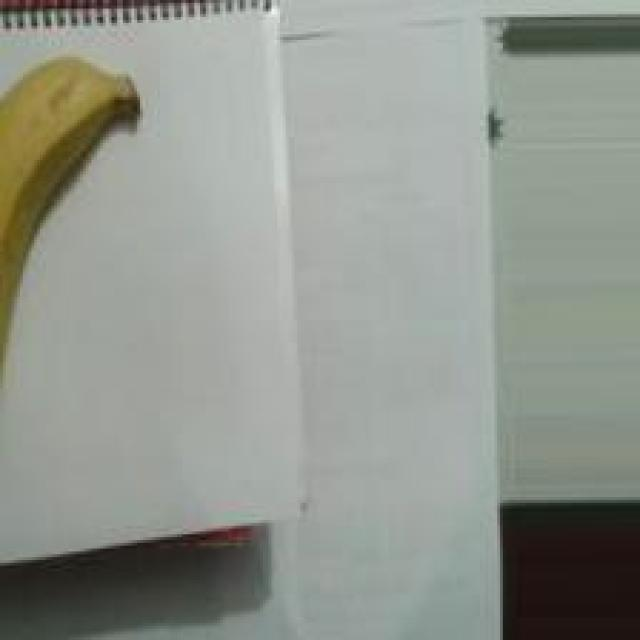banana: (1, 33, 167, 453)
